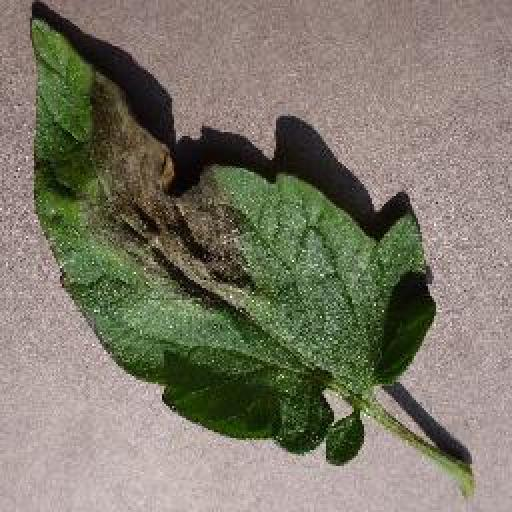Late Blight: (28, 8, 436, 455)
